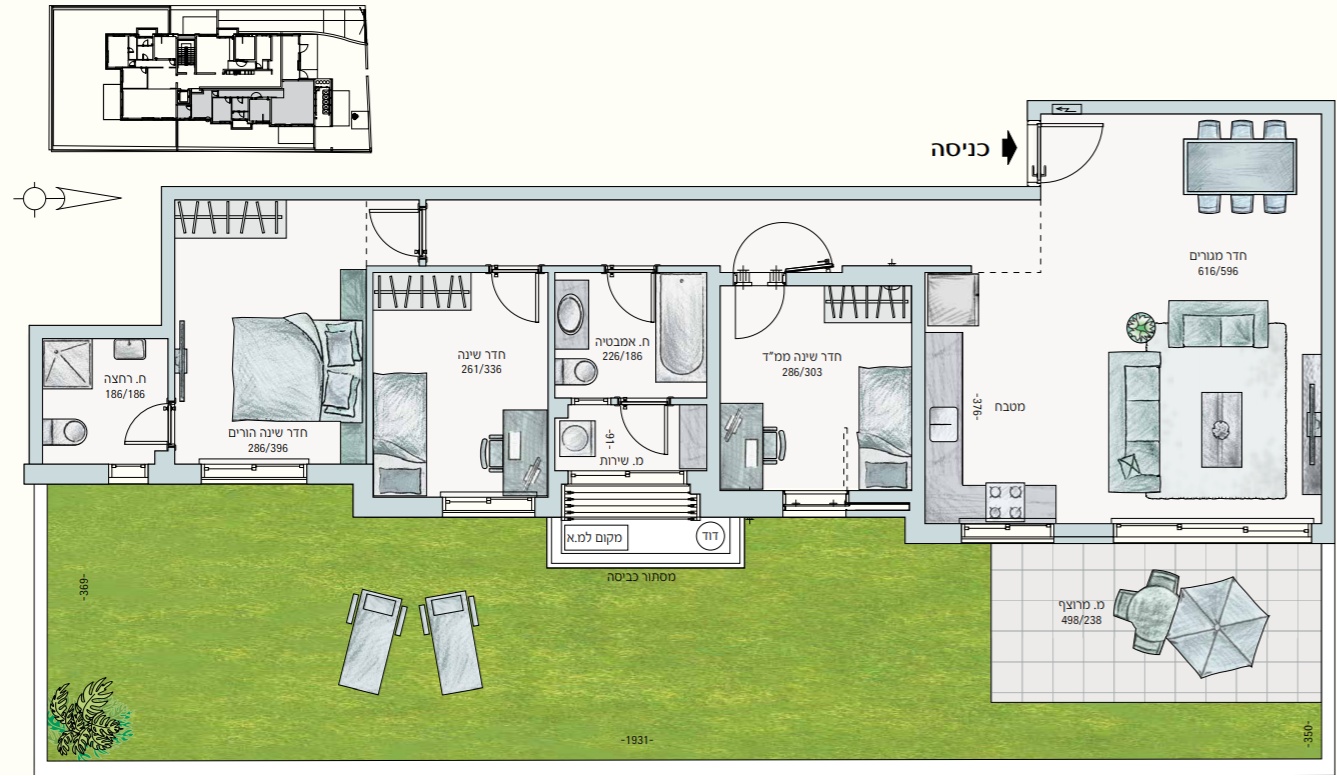balcony: (991, 540, 1321, 706)
securityroom: (706, 272, 925, 518)
